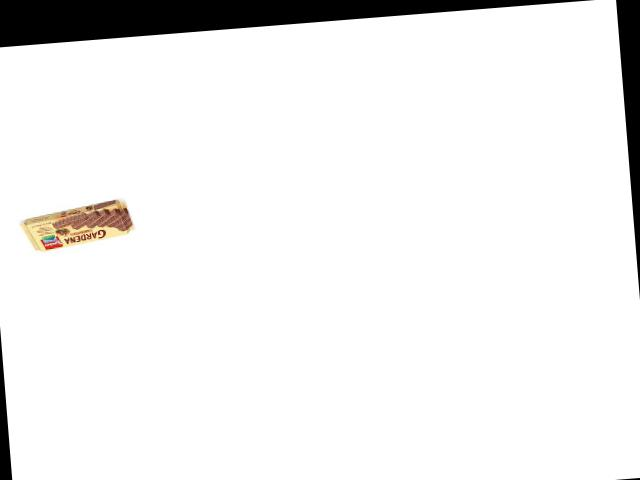chocolate: (15, 202, 141, 255)
